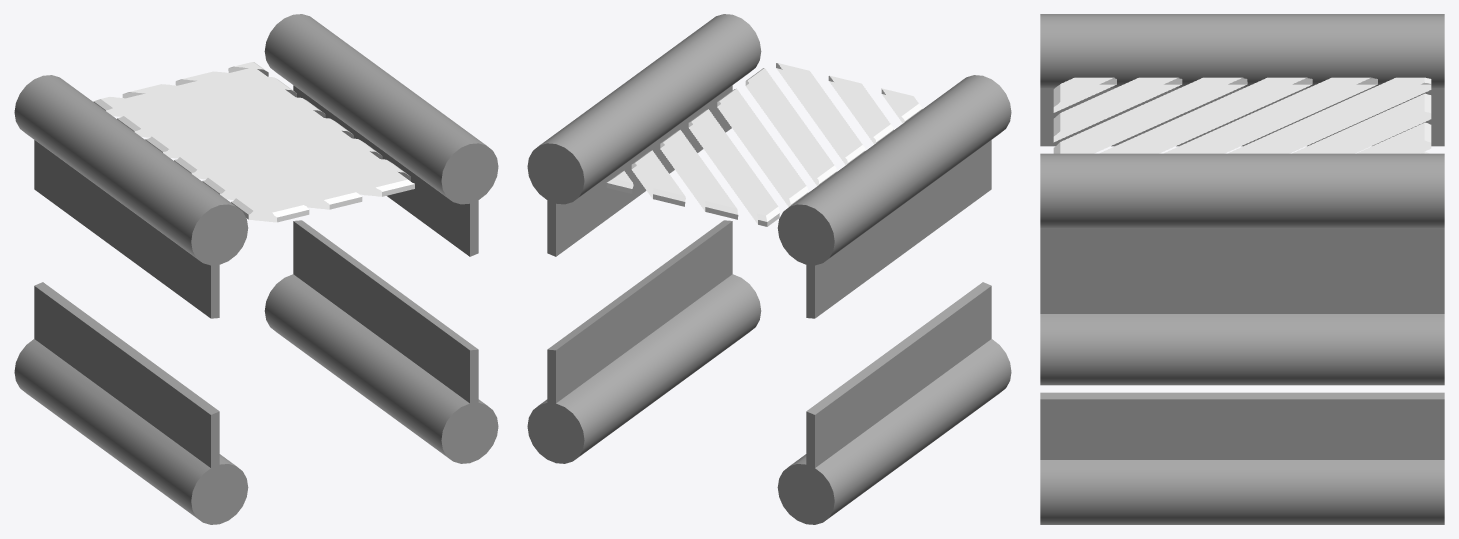
The model's file is pong_middle.fbx.
3 renders of one model, left to right at view 1: azimuth 30°, elevation 25°; view 2: azimuth 150°, elevation 25°; view 3: azimuth 270°, elevation 25°, orthographic. The views are drawn at different scales.
Parts seen in each view (by area): view 1: pong_top, pong_middle; view 2: pong_top, pong_middle; view 3: pong_top, pong_middle.
Part boxes in pixels (bbox=[...]): pong_top: bbox=[14, 14, 498, 524]; pong_middle: bbox=[93, 62, 414, 222]; pong_top: bbox=[527, 14, 1011, 524]; pong_middle: bbox=[606, 63, 922, 226]; pong_top: bbox=[1040, 14, 1444, 524]; pong_middle: bbox=[1053, 77, 1431, 153].
Bounding box in the file's own units: 100 × 99.64 × 100.
